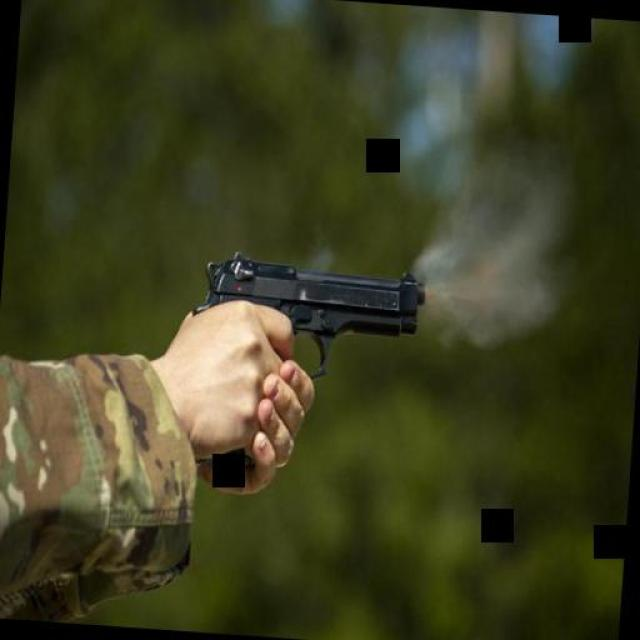gun: (182, 240, 428, 401)
